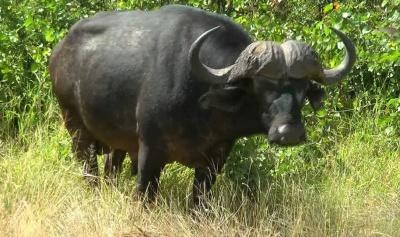buffalo: (49, 5, 350, 209)
